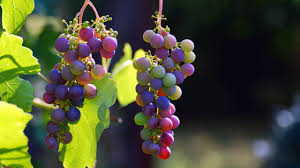Black grapes: (41, 17, 112, 158), (128, 24, 195, 161)
